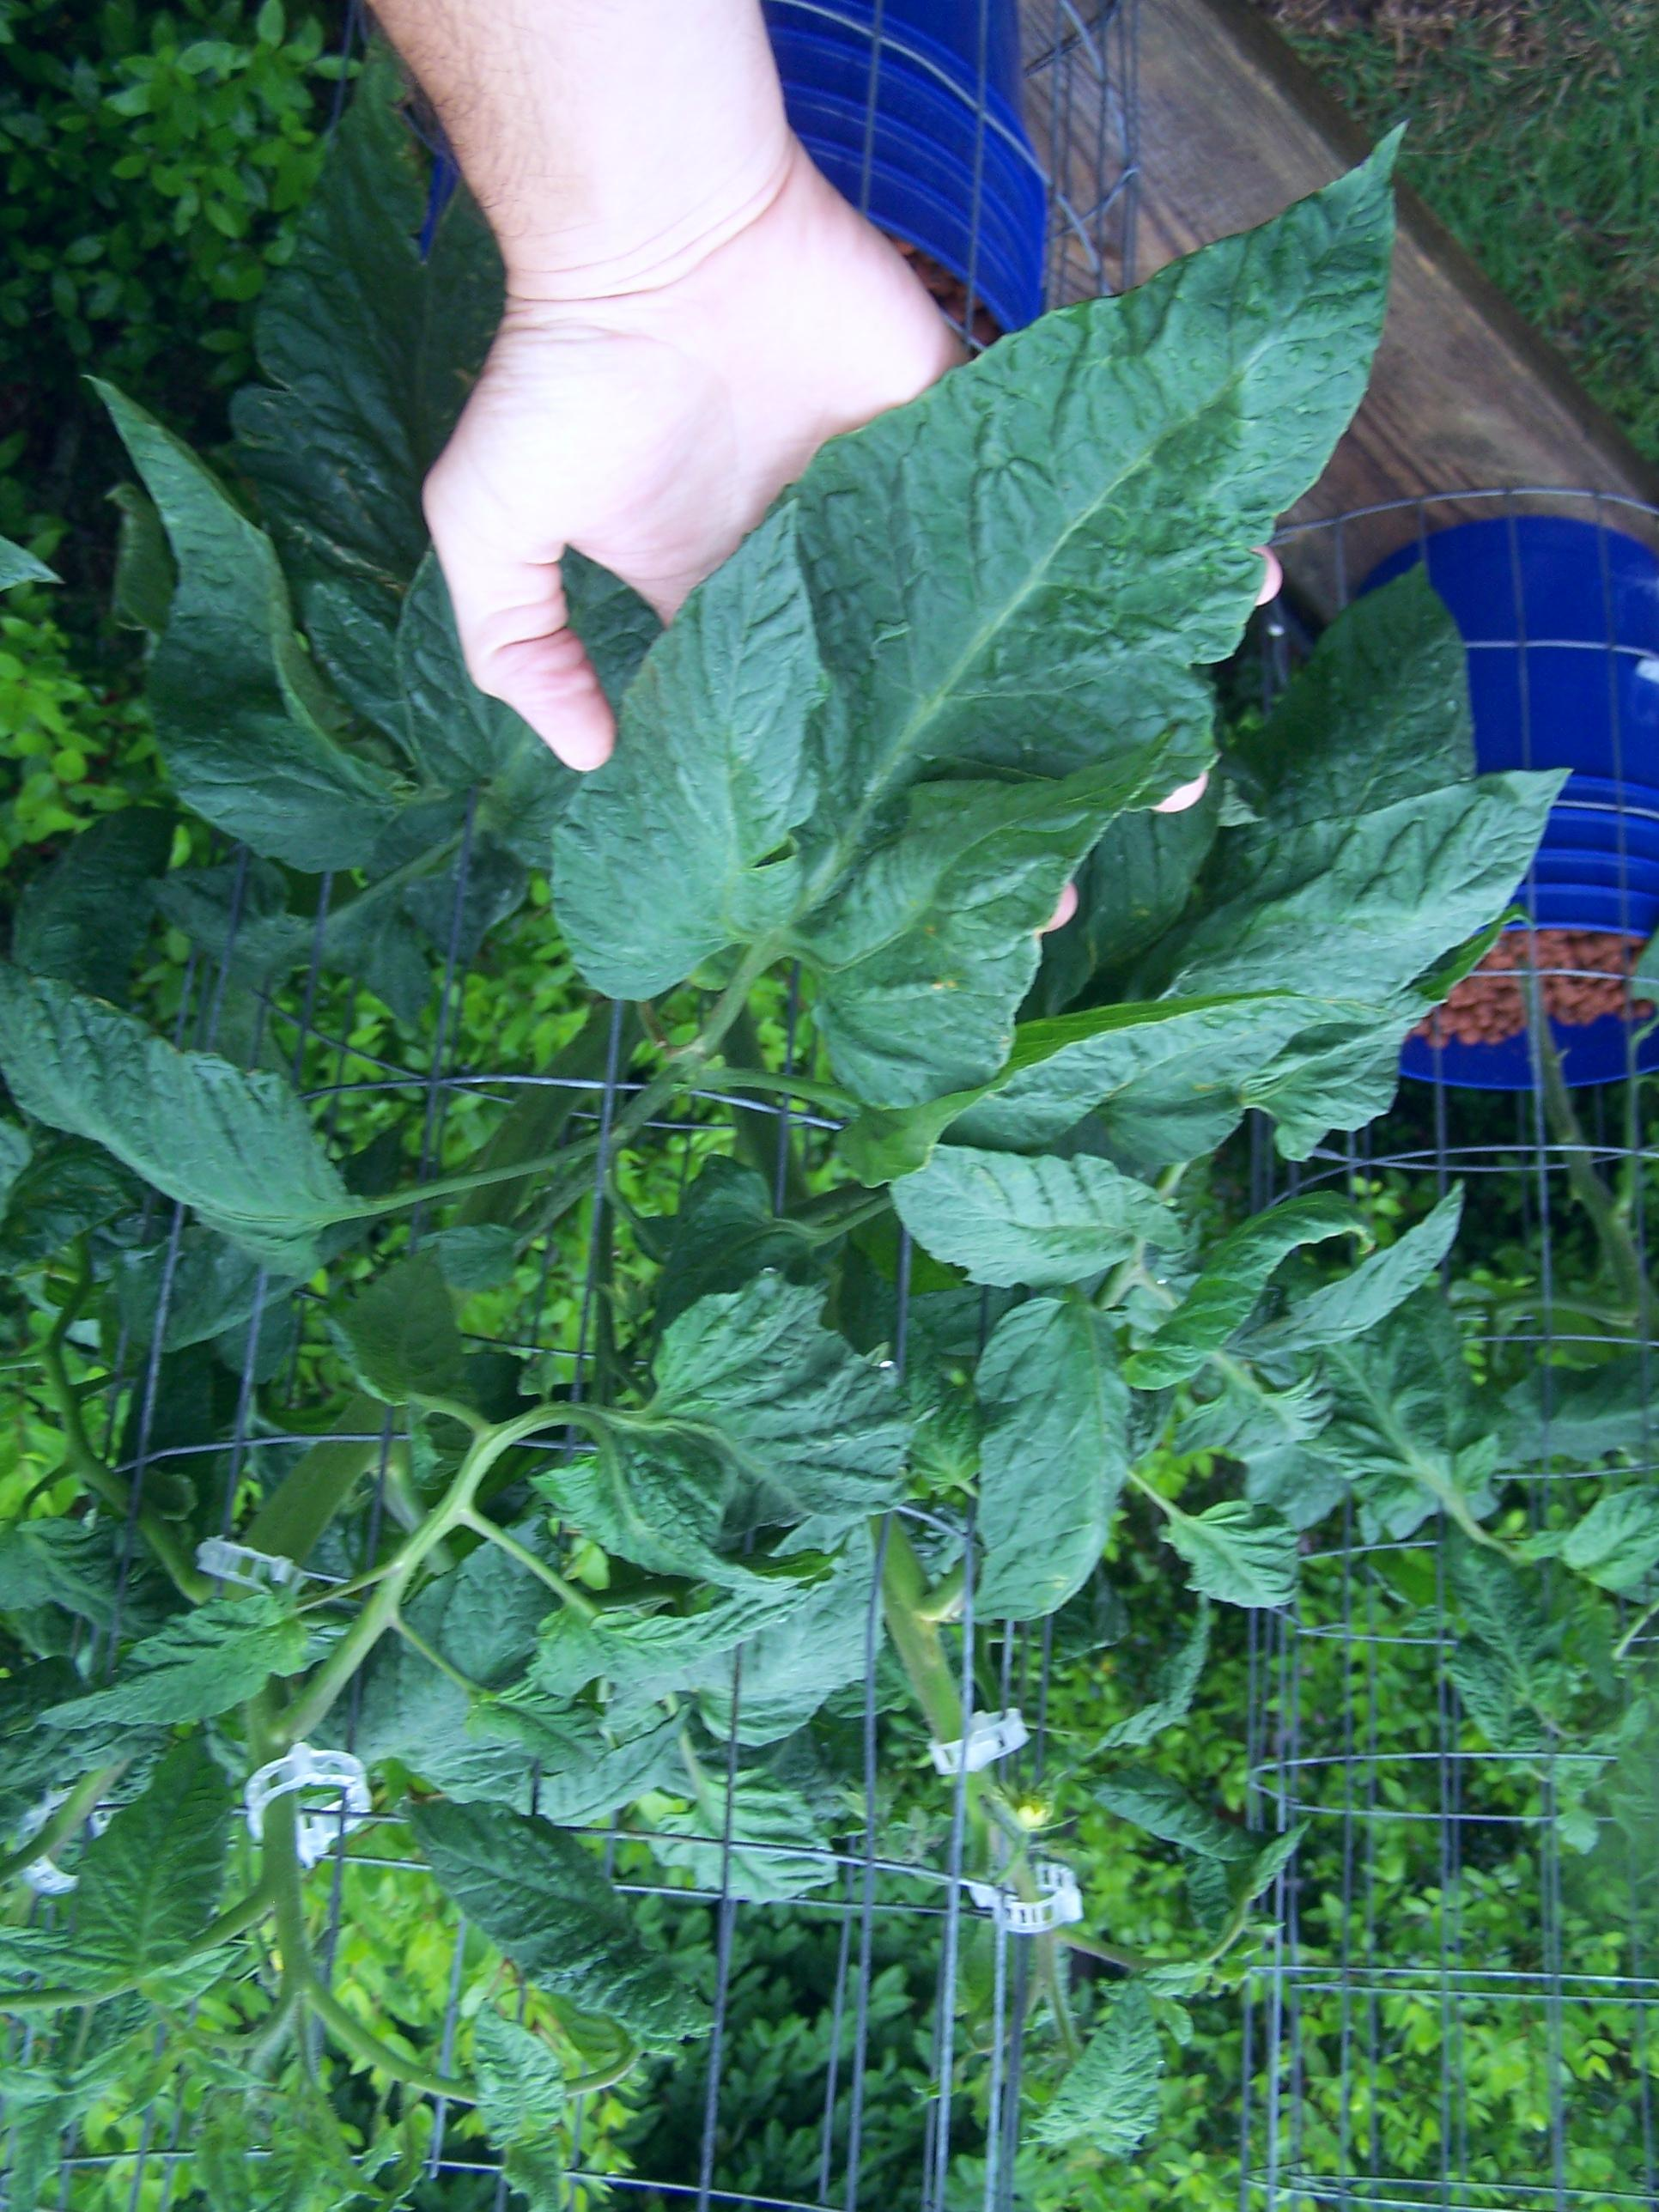Tomato leaf: (594, 141, 1420, 1007), (1025, 756, 1568, 1129), (14, 996, 331, 1245), (941, 1254, 1126, 1615), (631, 1298, 897, 1503), (47, 1573, 314, 1764), (856, 1120, 1180, 1268), (1152, 1500, 1317, 1618)
